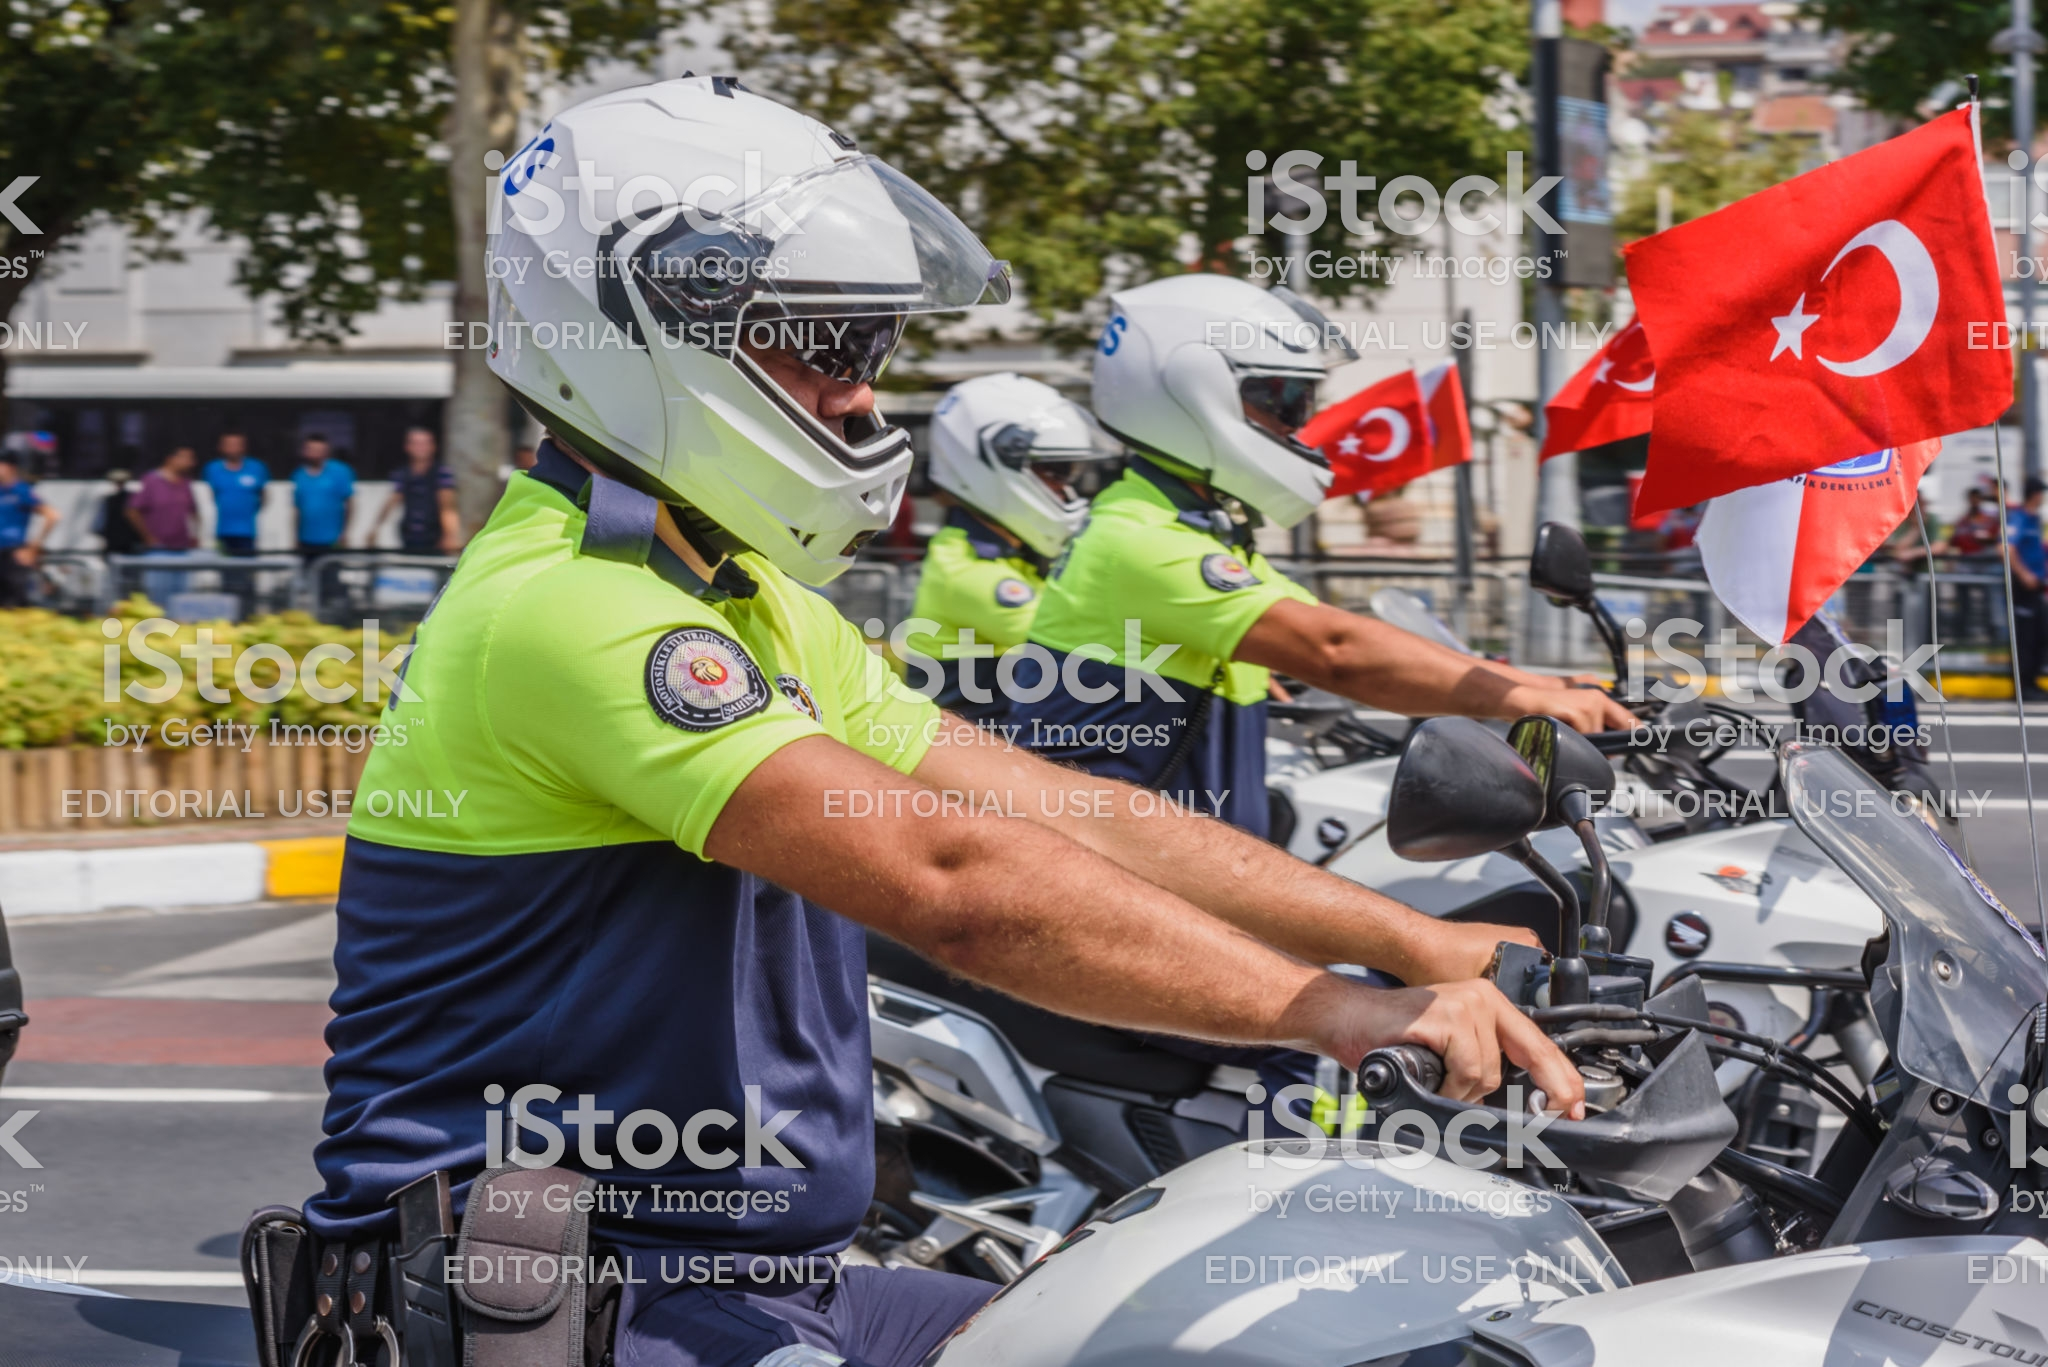helmet: (448, 40, 1025, 532), (1067, 230, 1359, 529)
